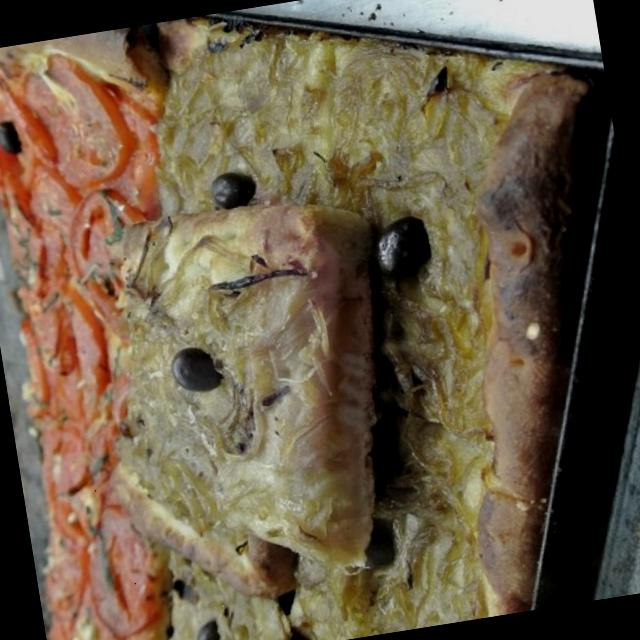Olive: (355, 209, 447, 309), (148, 320, 242, 412), (327, 509, 416, 587), (190, 151, 280, 219), (181, 602, 245, 640)
pizza: (0, 19, 605, 640)
tomato: (0, 52, 163, 221), (10, 120, 155, 284), (26, 280, 126, 503), (61, 489, 170, 640)
